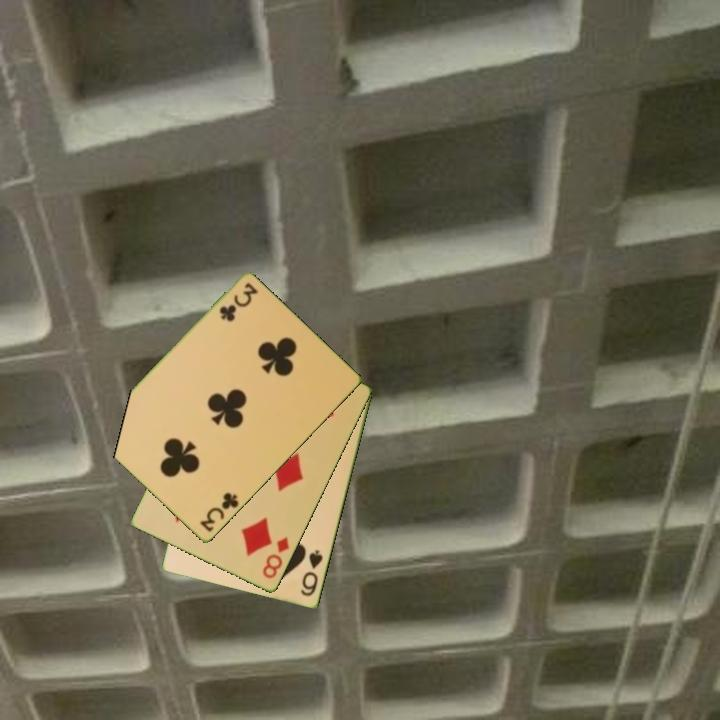3c: (196, 489, 242, 535), (216, 280, 260, 324)
6s: (297, 547, 326, 600)
8d: (259, 533, 293, 582)
